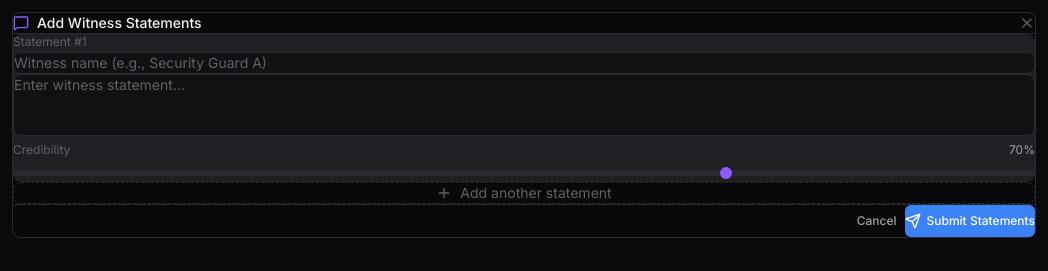
Test: WitnessForm › validates required fields before submit
// Try to submit without filling in fields
Click the button "Submit Statements" at (970, 221), box [904,205,1035,237]
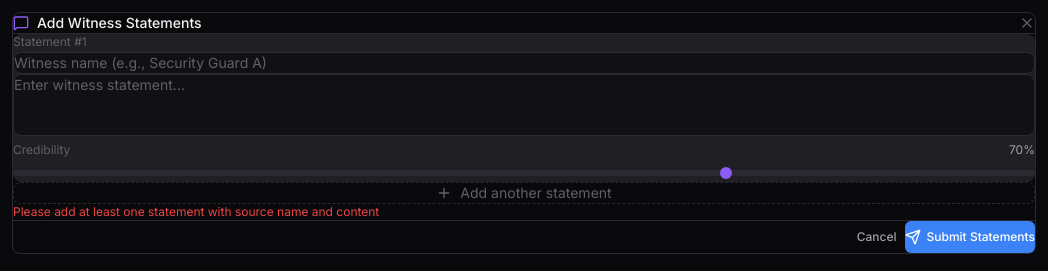
Check: the text "Please add at least one statement" is shown, box [13,204,379,219]
